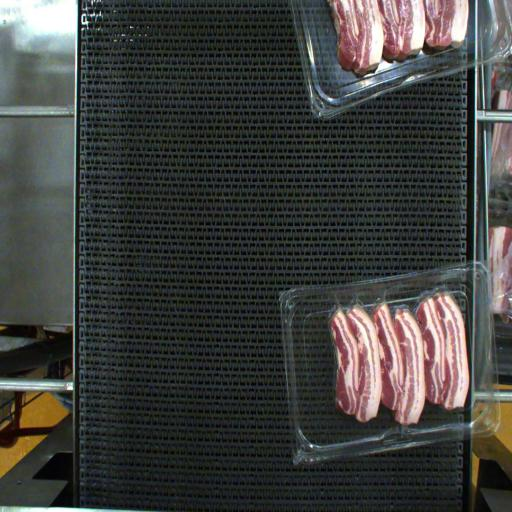unsealed: (322, 297, 480, 426)
